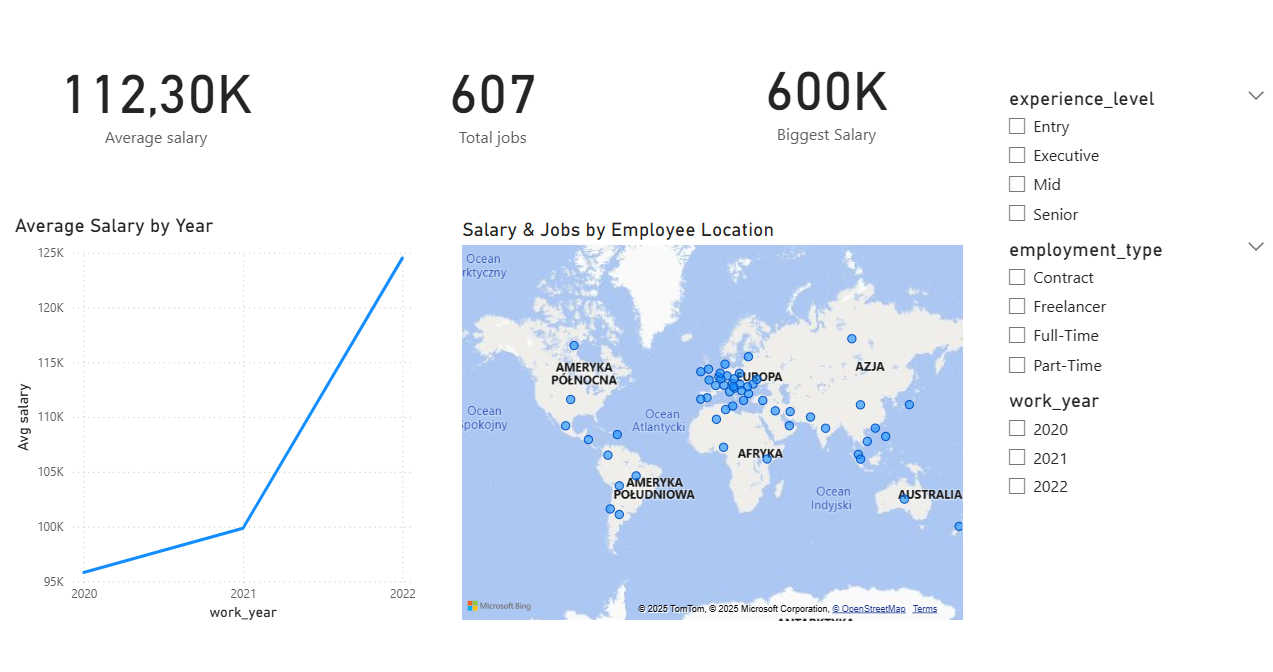

Layout of this report page (visuals, bound fields, positions):
{"tool":"powerbi","page":{"name":"Overwiew","canvas":[1280,720],"ordinal":0},"visuals":[{"type":"card","fields":{"Values":["ds_salaries.Avg salary"]},"box":[35.7,46.7,256.6,197.6],"z":0},{"type":"card","fields":{"Values":["ds_salaries.Total jobs"]},"box":[359.5,46.7,279.9,197.6],"z":1000},{"type":"lineChart","title":"Average Salary by Year","fields":{"Y":["ds_salaries.Avg salary"],"Category":["ds_salaries.work_year"]},"box":[19.2,262.1,408.9,408.9],"z":2000},{"type":"map","title":"Salary & Jobs by Employee Location","fields":{"Category":["ds_salaries.employee_residence"]},"box":[463.8,266.2,507.7,404.8],"z":3000},{"type":"slicer","fields":{"Values":["ds_salaries.work_year"]},"box":[1000.1,431.7,279.9,151.8],"z":4000},{"type":"slicer","fields":{"Values":["ds_salaries.experience_level"]},"box":[999.8,130.4,279.9,150.5],"z":5000},{"type":"slicer","fields":{"Values":["ds_salaries.employment_type"]},"box":[1000.1,281.1,279.9,150.5],"z":6000},{"type":"card","fields":{"Values":["ds_salaries.Max salary"]},"box":[691.6,45.3,279.9,197.6],"z":7000}]}

Visuals, with their boxes on the page's 1280x720 design canvas (x1, y1, x2, y2). These are canvas units, not pixel positions in the 1273x672 screenshot, which may show the page scaled, cropped or inside an application window:
card - ds_salaries.Avg salary: Rect(36, 47, 292, 244)
card - ds_salaries.Total jobs: Rect(360, 47, 639, 244)
"Average Salary by Year" lineChart: Rect(19, 262, 428, 671)
"Salary & Jobs by Employee Location" map: Rect(464, 266, 972, 671)
slicer - ds_salaries.work_year: Rect(1000, 432, 1280, 584)
slicer - ds_salaries.experience_level: Rect(1000, 130, 1280, 281)
slicer - ds_salaries.employment_type: Rect(1000, 281, 1280, 432)
card - ds_salaries.Max salary: Rect(692, 45, 972, 243)
